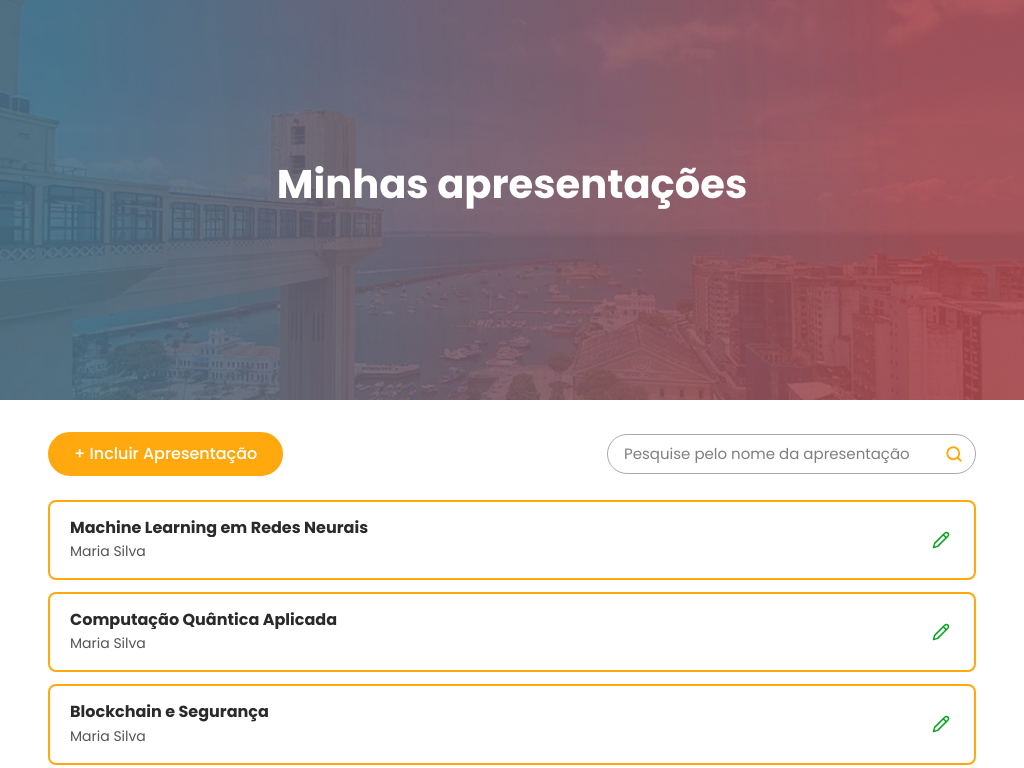
Test: MinhasApresentacoesPage › shows empty state when search has no matches
Expected: the heading "Machine Learning em Redes Neurais" is shown, [70,516,368,539]
Type "xyz inexistente" into the field with placeholder "Pesquise pelo nome da apresentação" at (770, 454), box [608,435,933,473]
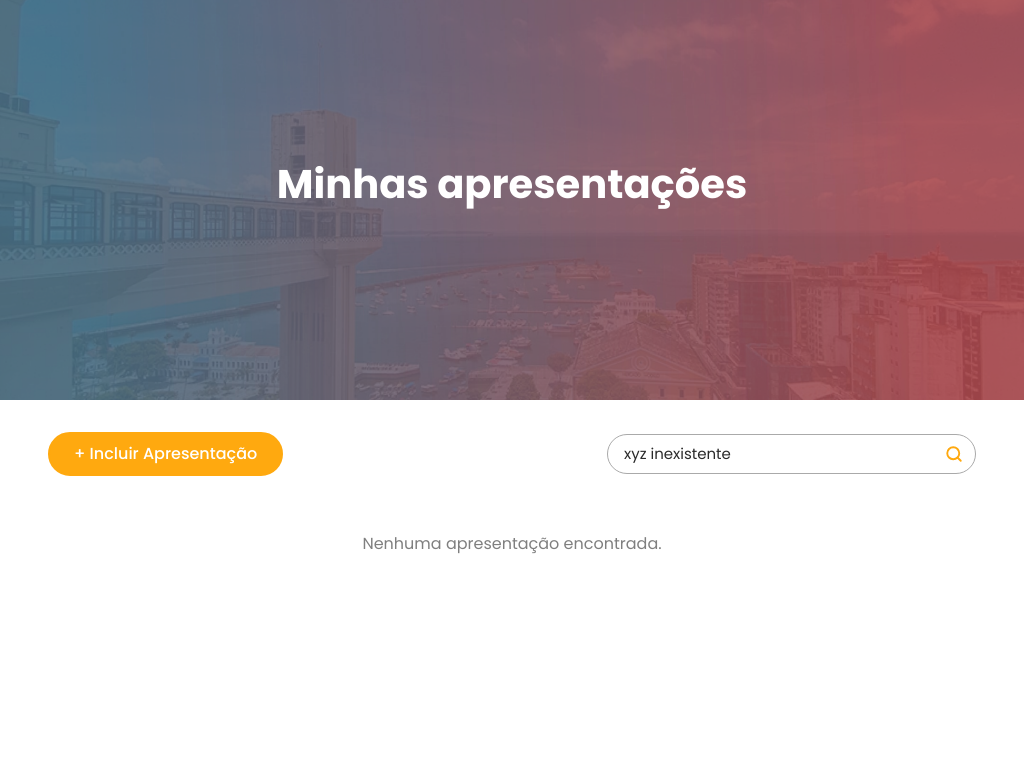
Result: the text "Nenhuma apresentação encontrada." is shown at [362,532,662,555]
